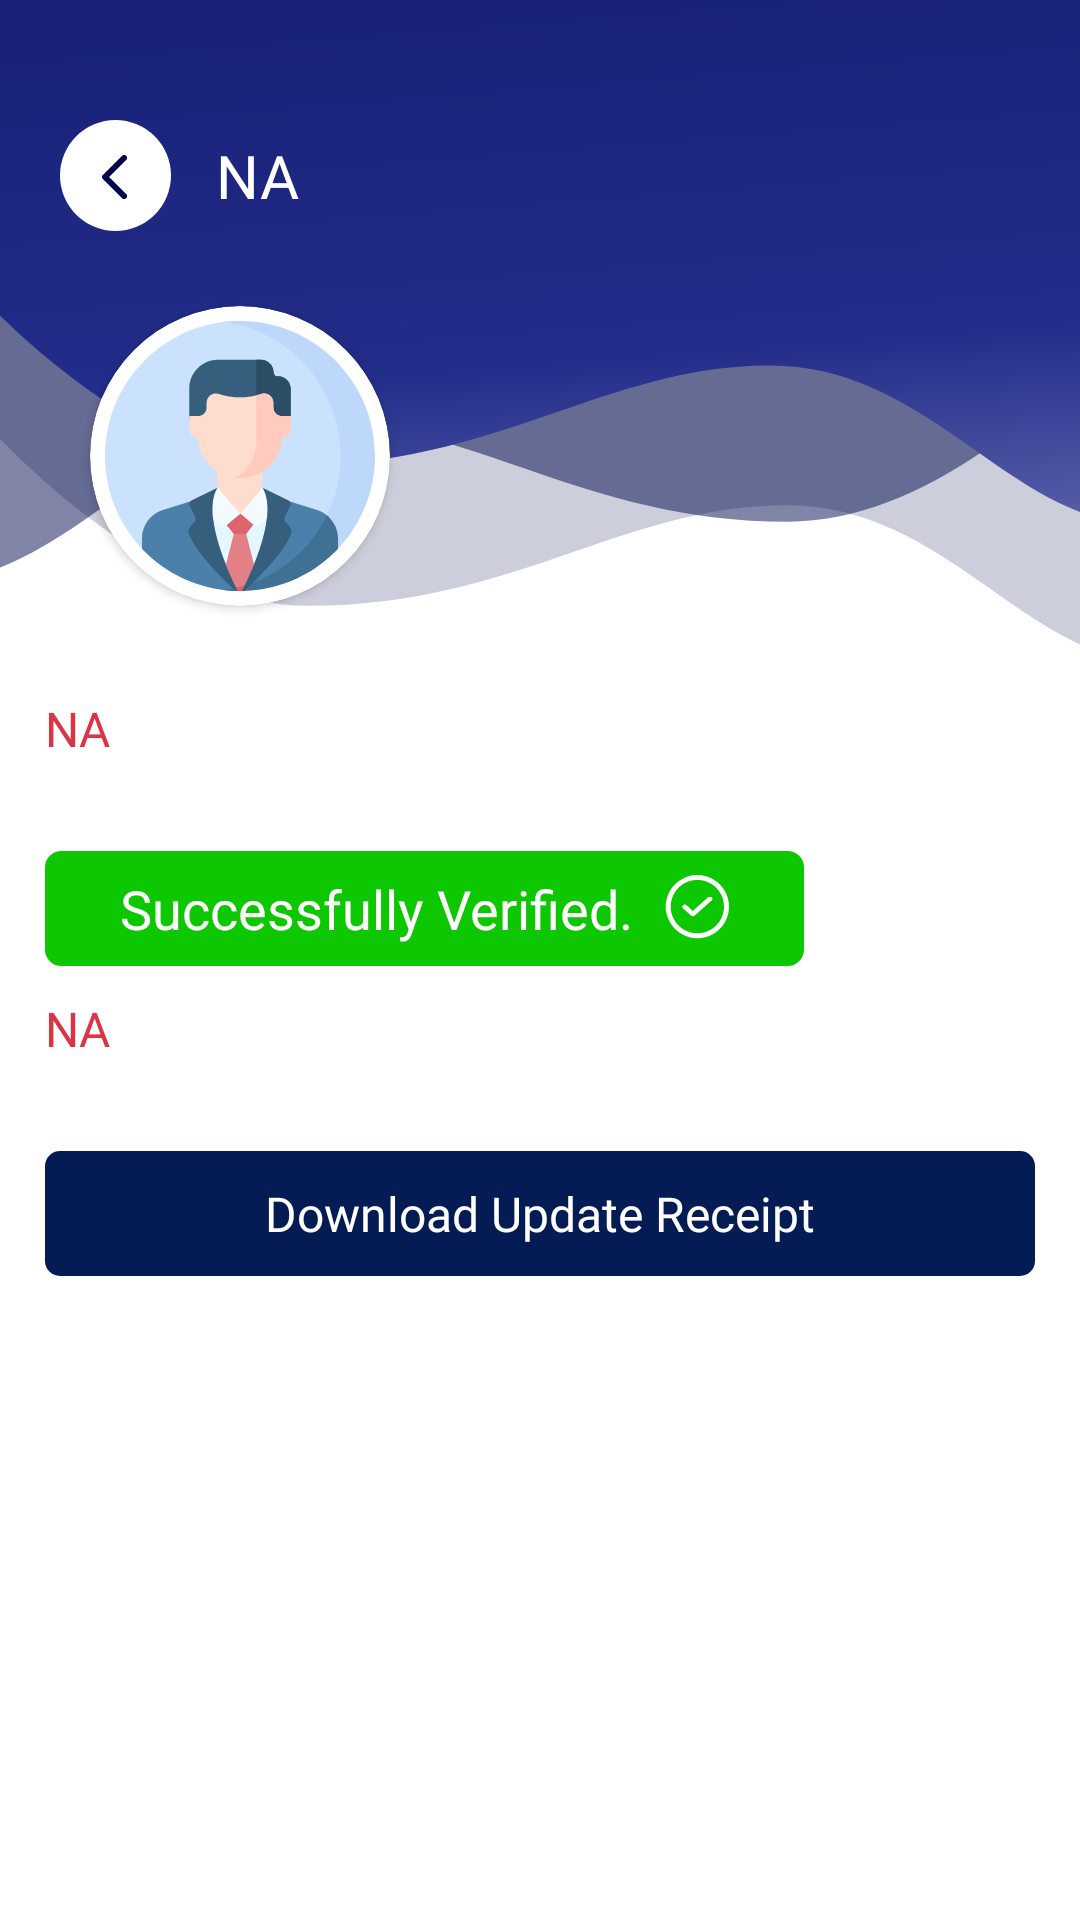

Named icons in this screenshot (1080px x 1920px) and their centers, [x,y]:
profile: [240,456]
